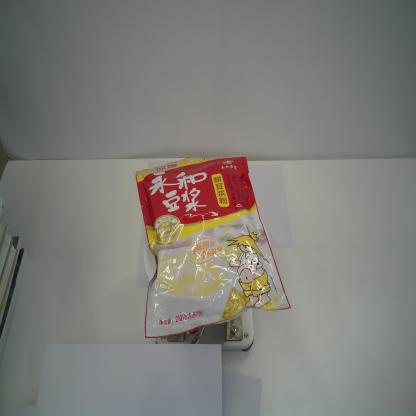Instant Drink: (135, 153, 292, 342)
